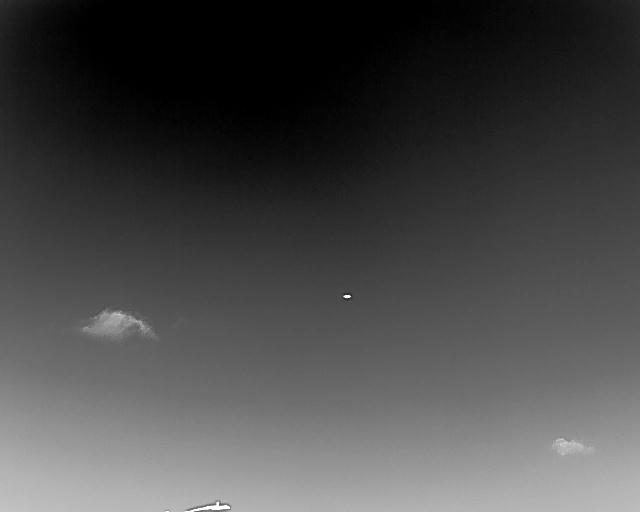fpv-drone: (342, 293, 352, 300)
